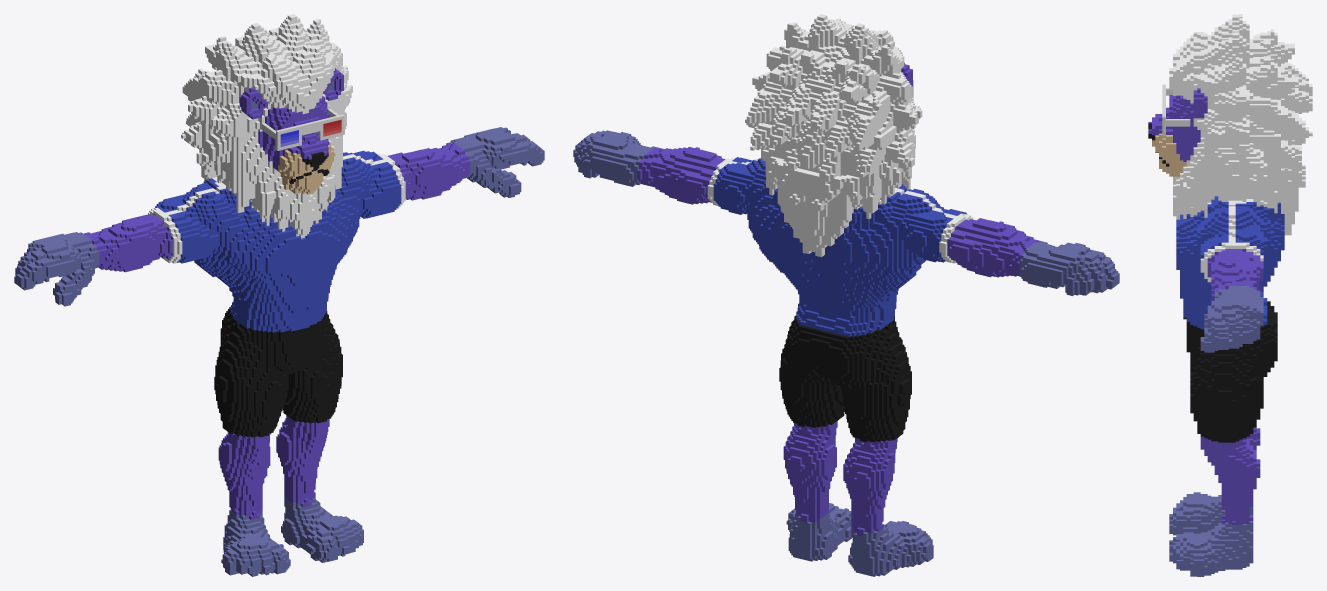
Rendered from 440-CUO5mu_9.glb.
The picture shows the model from 3 angles, left to right: view 1: azimuth 30°, elevation 25°; view 2: azimuth 150°, elevation 25°; view 3: azimuth 270°, elevation 25°; orthographic projection. The views are drawn at different scales.
Parts seen in each view (by area): view 1: sad; view 2: sad; view 3: sad.
Boxes of the visible parts, box(x1,y1,x2,y2) form: sad: box(14, 14, 544, 576); sad: box(573, 14, 1119, 576); sad: box(1148, 14, 1312, 576).
Bounding box in the file's own units: 17.2 × 16.5 × 4.7.
Materials: 5 (5 with a texture image).
